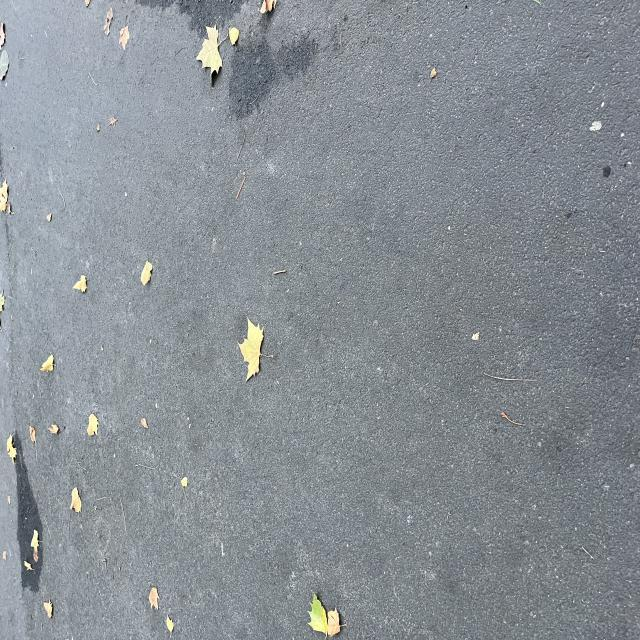leaves: (420, 259, 465, 301), (206, 325, 238, 351), (6, 411, 23, 459), (259, 186, 288, 208), (151, 112, 170, 138), (199, 55, 216, 73), (94, 94, 113, 110), (317, 1, 346, 11), (135, 8, 150, 24), (261, 99, 272, 118), (20, 56, 32, 73), (28, 197, 40, 208)
